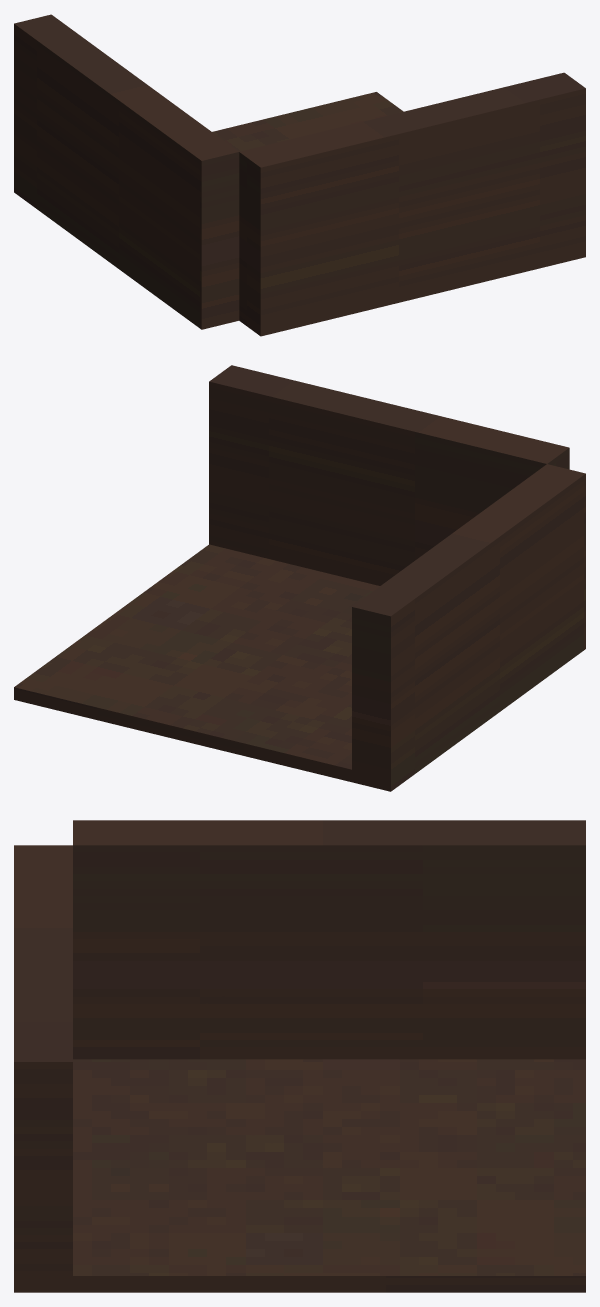
Rendered from walls.glb.
The picture shows the model from 3 angles, top to bottom: view 1: azimuth 30°, elevation 25°; view 2: azimuth 150°, elevation 25°; view 3: azimuth 270°, elevation 25°; orthographic projection. The views are drawn at different scales.
Visible parts, largest first — view 1: Cube; view 2: Cube; view 3: Cube.
Boxes of the visible parts, x1=… form: Cube: x1=14, y1=14, x2=585, y2=336; Cube: x1=14, y1=365, x2=585, y2=791; Cube: x1=14, y1=820, x2=585, y2=1292.
Bounding box in the file's own units: 9.69 × 4.31 × 9.69.
1 material, 1 textured.
